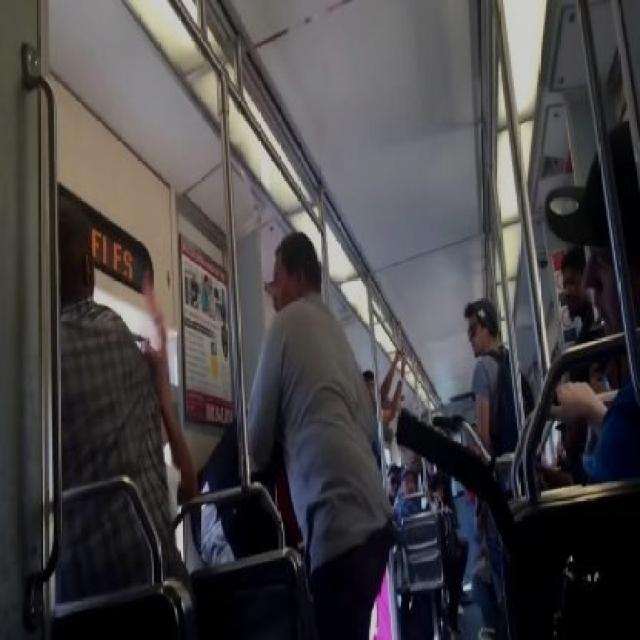fight: (130, 229, 404, 638)
non-fight: (451, 294, 540, 638)
